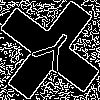Y: (25, 25, 79, 82)
